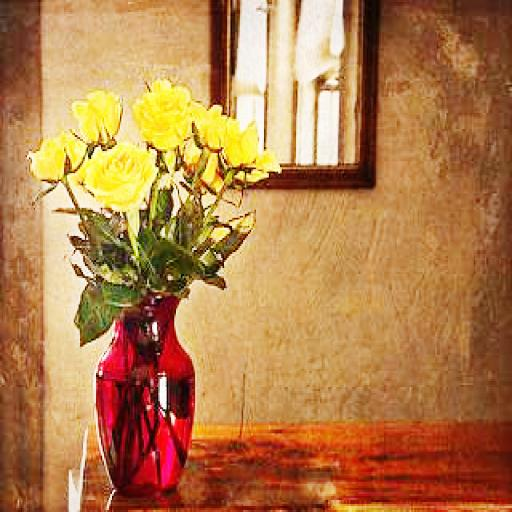rose: (82, 141, 154, 208), (136, 83, 195, 143), (69, 91, 123, 141), (27, 129, 80, 177)
